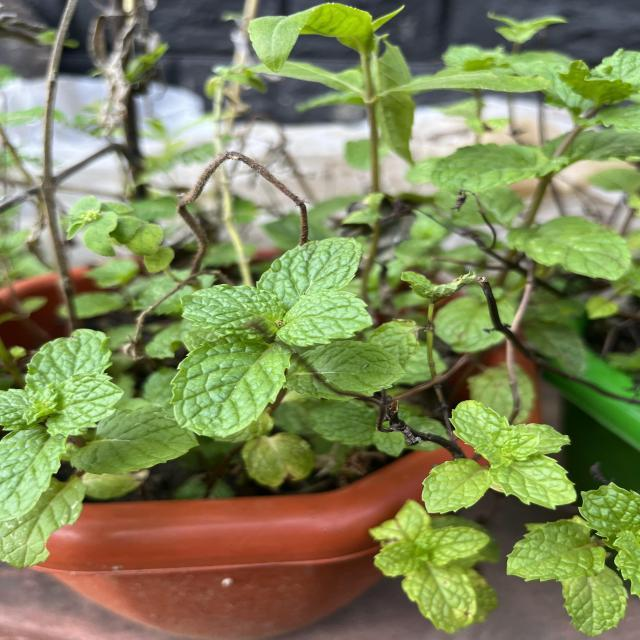Mentha spicata: (169, 334, 298, 439), (254, 235, 366, 302), (504, 518, 607, 584), (275, 288, 375, 348), (178, 282, 284, 338), (48, 372, 126, 438), (420, 457, 492, 515), (448, 398, 510, 448)
